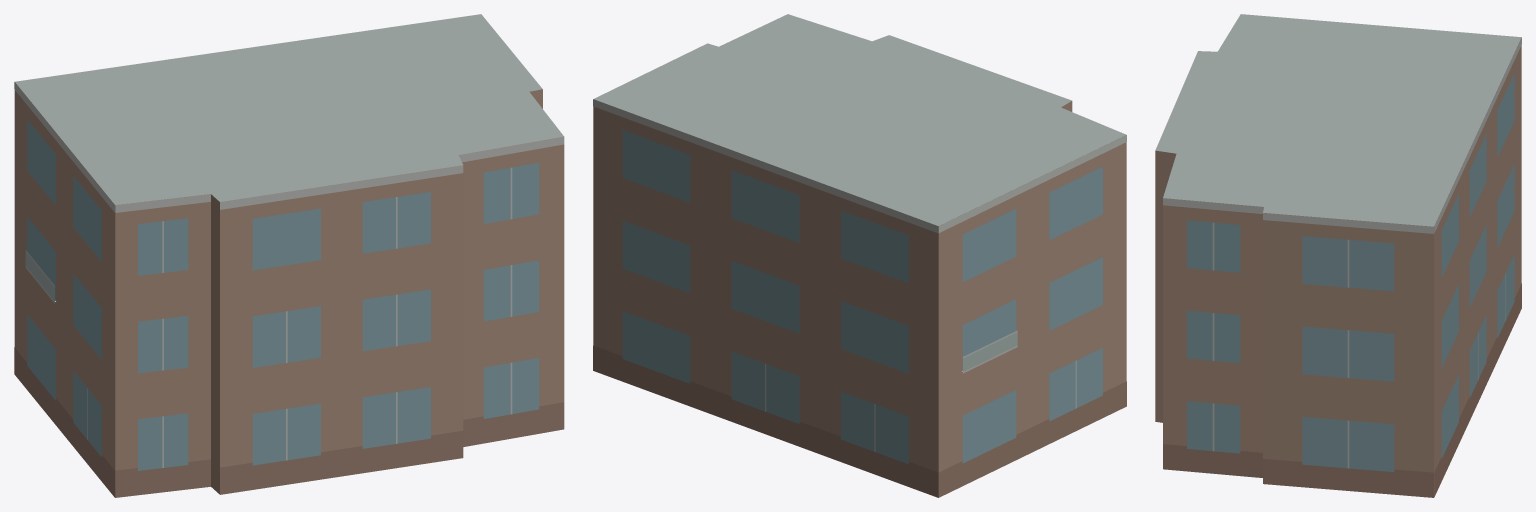
File: survey-upis-32879177.glb
The picture shows the model from 3 angles, left to right: view 1: azimuth 30°, elevation 25°; view 2: azimuth 150°, elevation 25°; view 3: azimuth 270°, elevation 25°; orthographic projection. The views are drawn at different scales.
Visible parts, largest first — view 1: survey-upis-32879177.tmp; view 2: survey-upis-32879177.tmp; view 3: survey-upis-32879177.tmp.
Part boxes in pixels (x1=…): survey-upis-32879177.tmp: x1=14, y1=14, x2=564, y2=497; survey-upis-32879177.tmp: x1=593, y1=14, x2=1126, y2=497; survey-upis-32879177.tmp: x1=1155, y1=14, x2=1521, y2=497.
Size of the model in its own units: 15.4 by 9.15 by 11.22.
